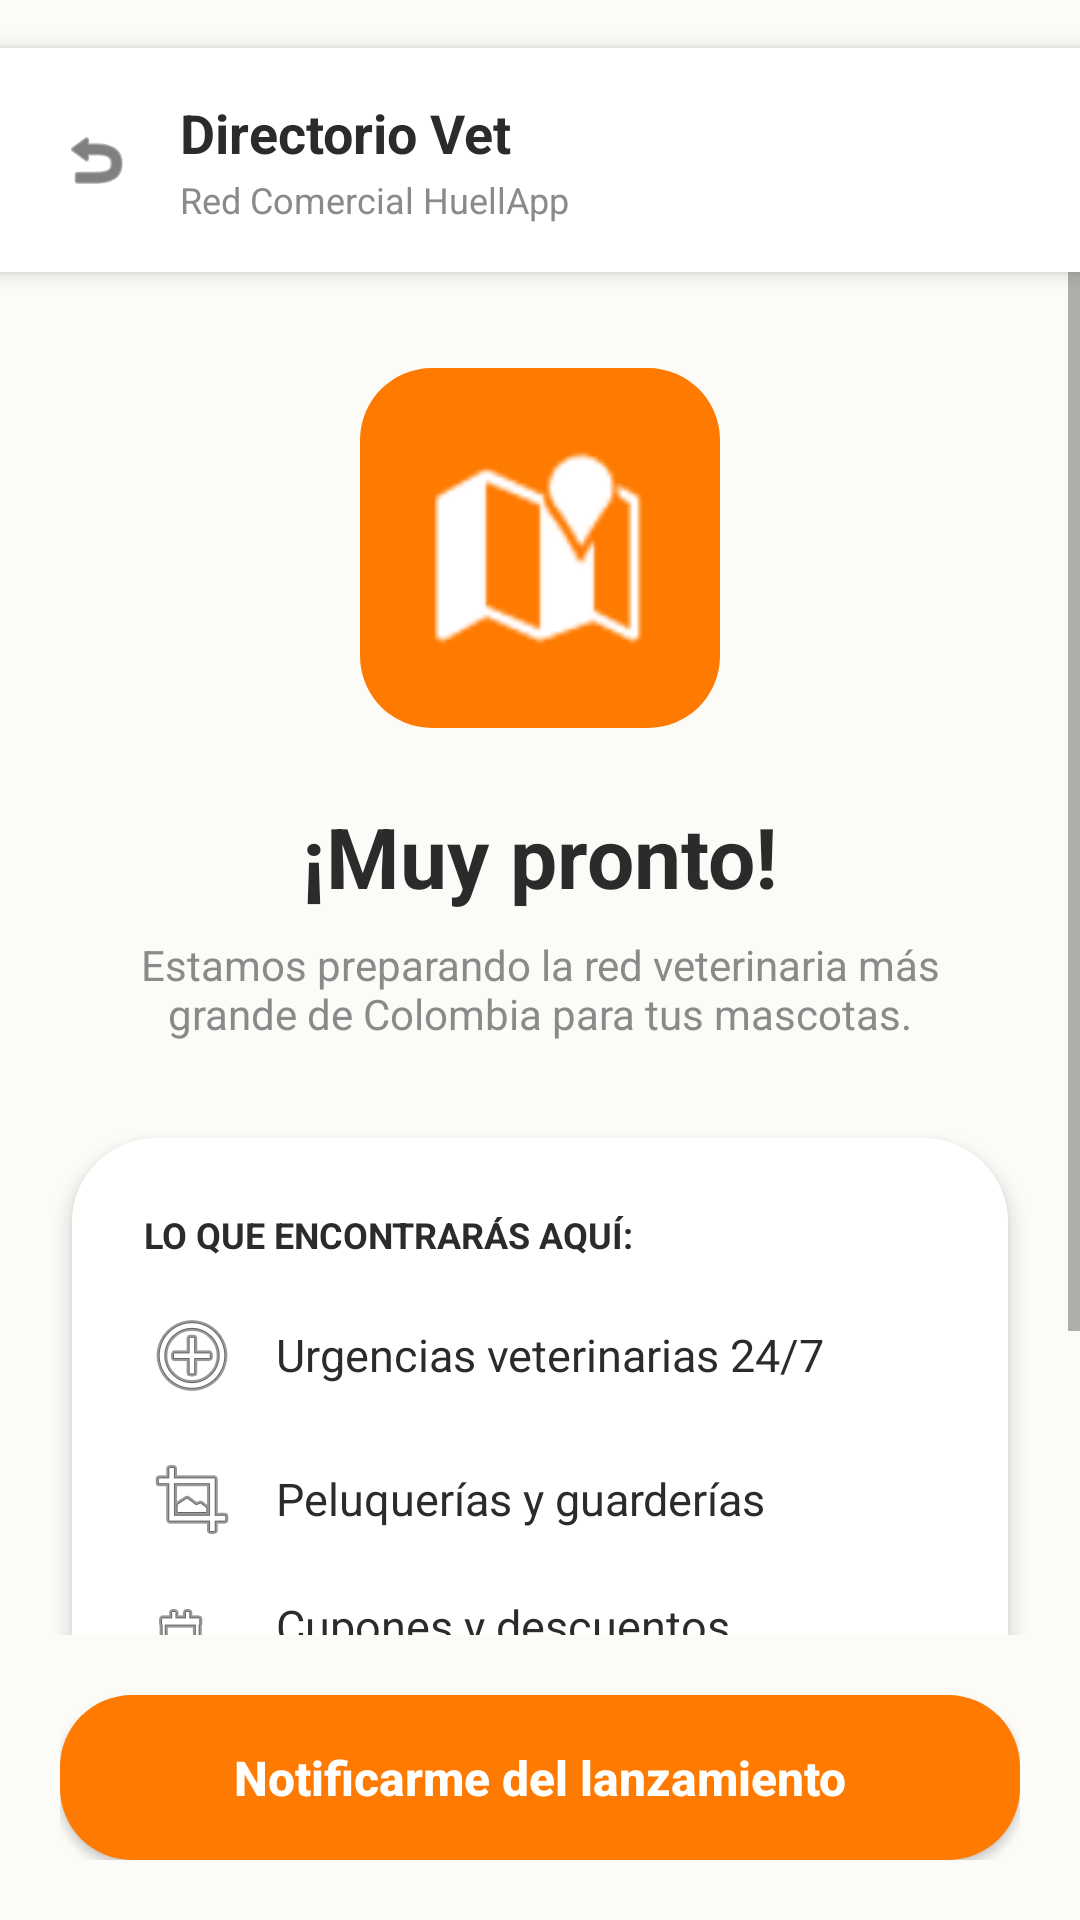

Point at icon controls on the screen. Image size 1080w x 1920h, points as (x,y).
map: (540,548)
revert: (97,160)
